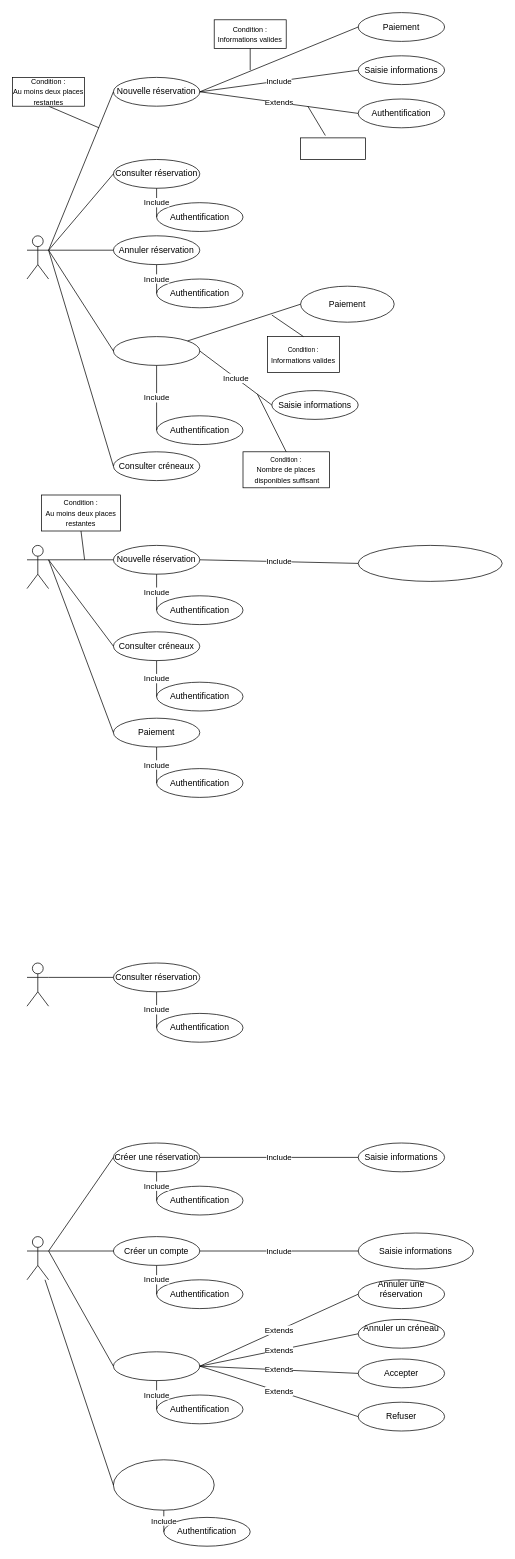
The diagram is 515 pixels wide and 1559 high, and some of its shapes have lost their labels. Here are the shapes that lost their labels. From the top down, the centre of each, then its label:
At point 332,148: "Condition : avoir un compte".
At point 37,257: "Client".
At point 156,350: "Modifier réservation".
At point 37,567: "Hotel".
At point 429,563: "Saisie du nombre de places par créneau sur une semaine".
At point 37,984: "Employé".
At point 37,1258: "Patron".
At point 156,1366: "Consulter une réservation".
At point 163,1484: "Envoyer des messages à plusieurs clients à la fois (sms/email)".
